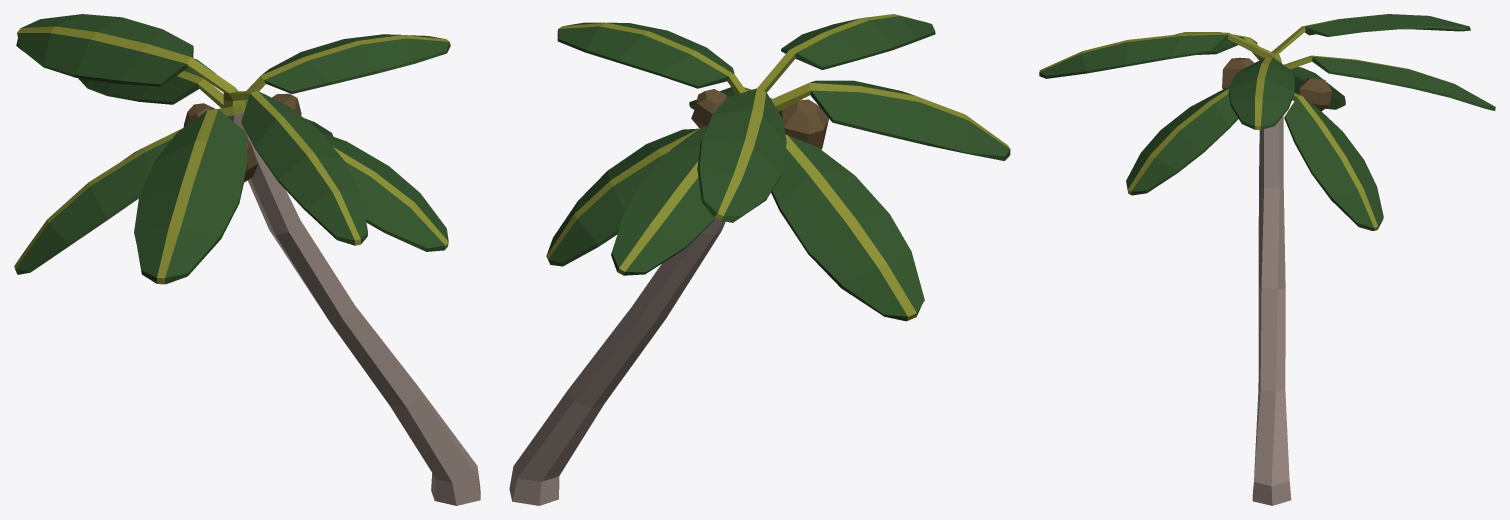
Rendered from CoconutPalm03.fbx.
The picture shows the model from 3 angles, left to right: view 1: azimuth 30°, elevation 25°; view 2: azimuth 150°, elevation 25°; view 3: azimuth 270°, elevation 25°; orthographic projection. The views are drawn at different scales.
Visible parts, largest first — view 1: PalmTopMidPoly.002; view 2: PalmTopMidPoly.002; view 3: PalmTopMidPoly.002.
Boxes of the visible parts, left/top/right/bottom form: PalmTopMidPoly.002: left=14, top=14, right=480, bottom=505; PalmTopMidPoly.002: left=509, top=14, right=1010, bottom=505; PalmTopMidPoly.002: left=1039, top=14, right=1495, bottom=505.
Bounding box in the file's own units: 132 × 139 × 152.
